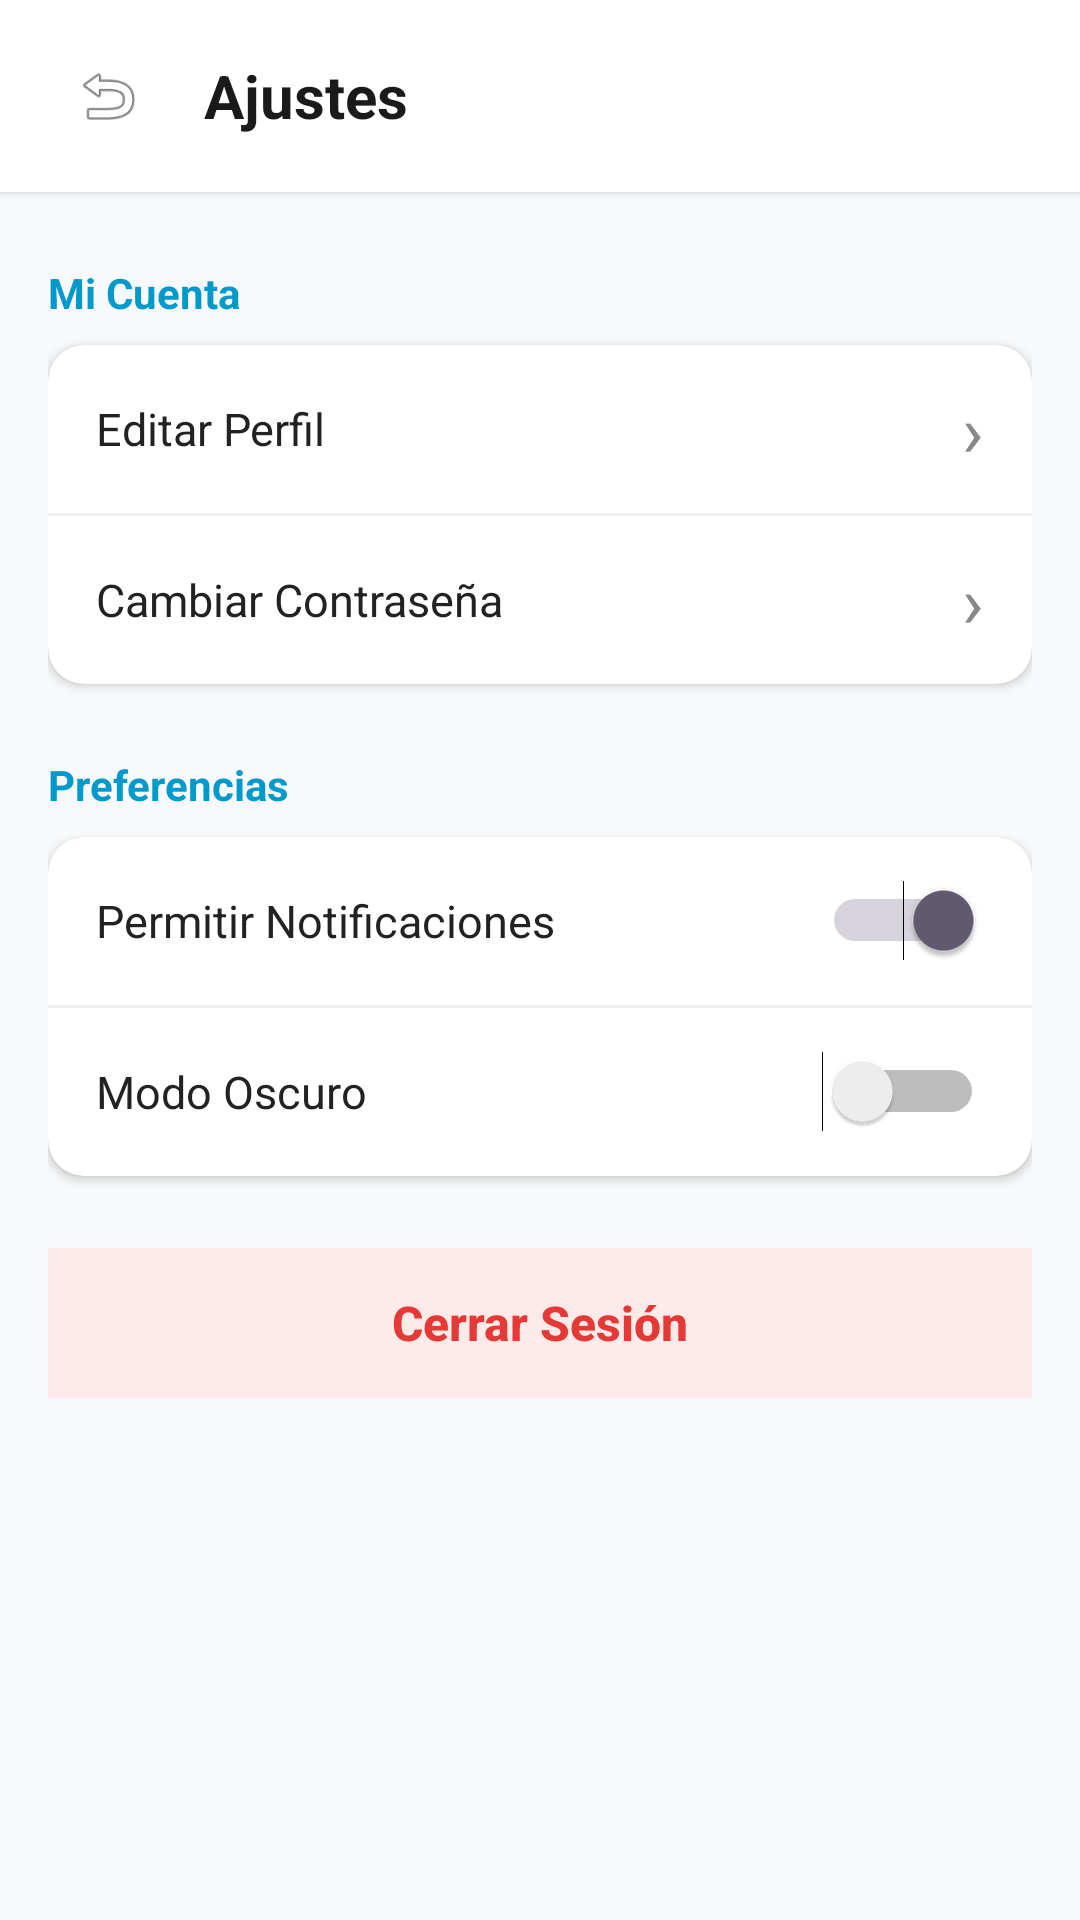

Locate icon controls on the screen. Image size 1080×1920, boxes as (x1, y1, x2, y2).
Volver: (83, 73, 135, 120)
